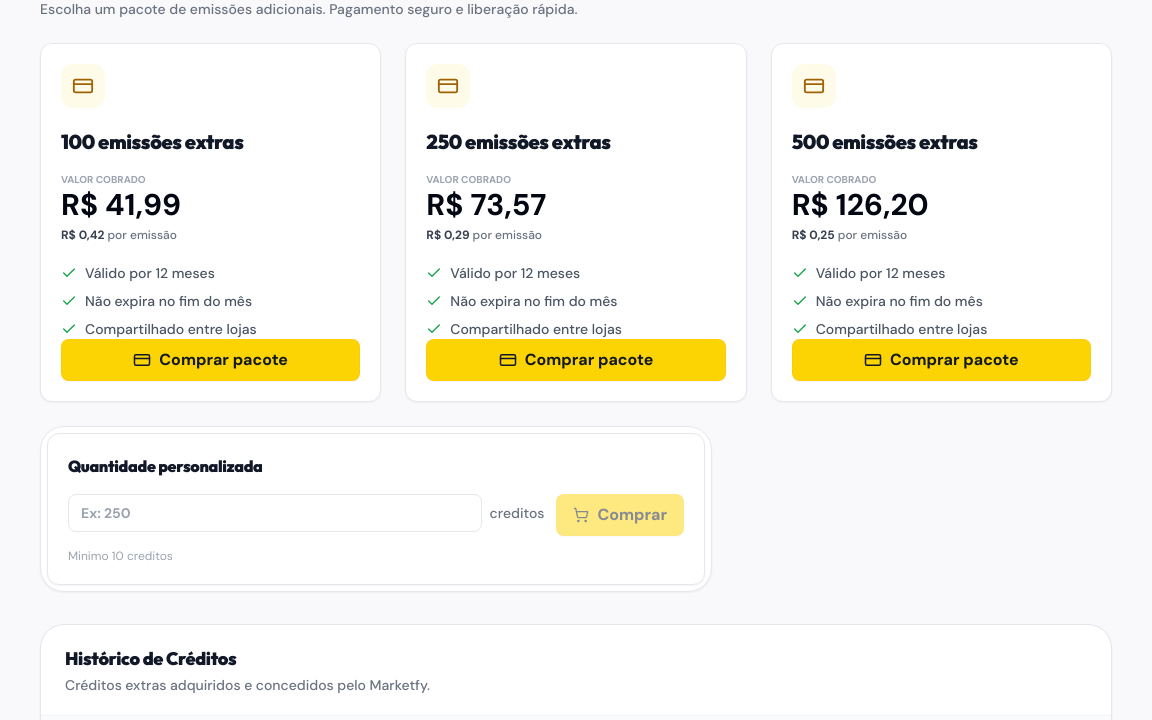
Test: FiscalCredits › shows inline error inside confirm modal when checkout job failed
(page scrolled)
Click the button "Comprar pacote" below "R$ 0,29": [576, 360] box x1=426 y1=339 x2=726 y2=381
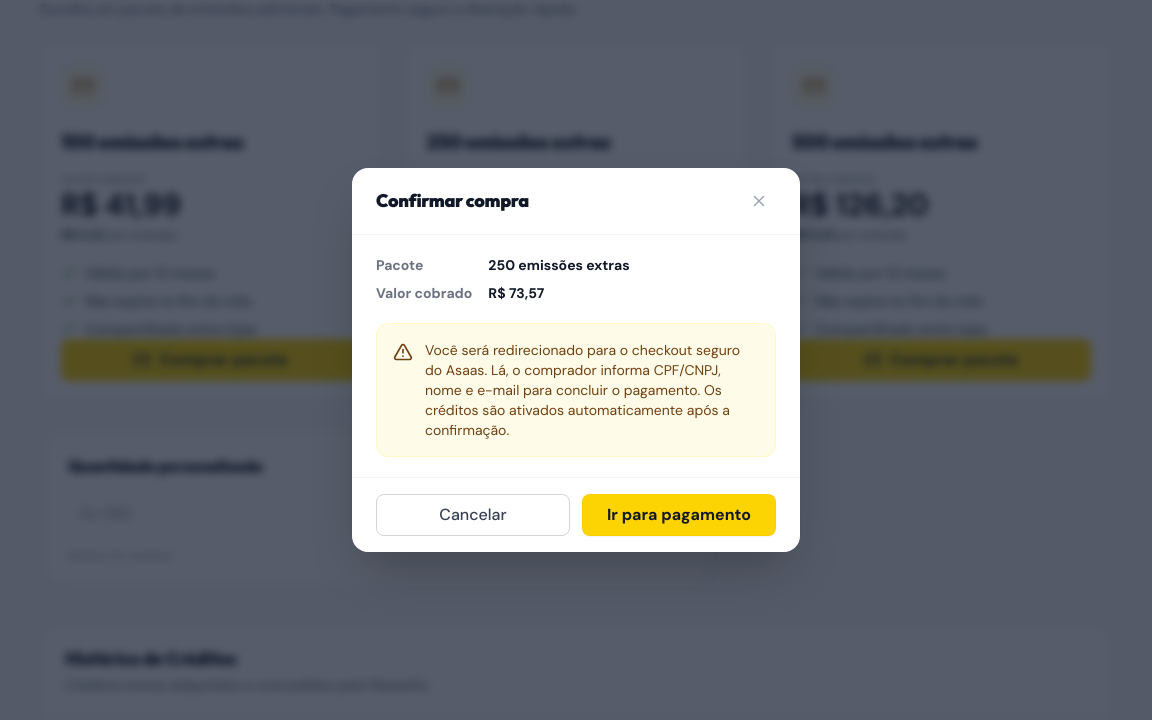
Click the button "Ir para pagamento": [679, 515] box x1=582 y1=494 x2=776 y2=536
(page scrolled)
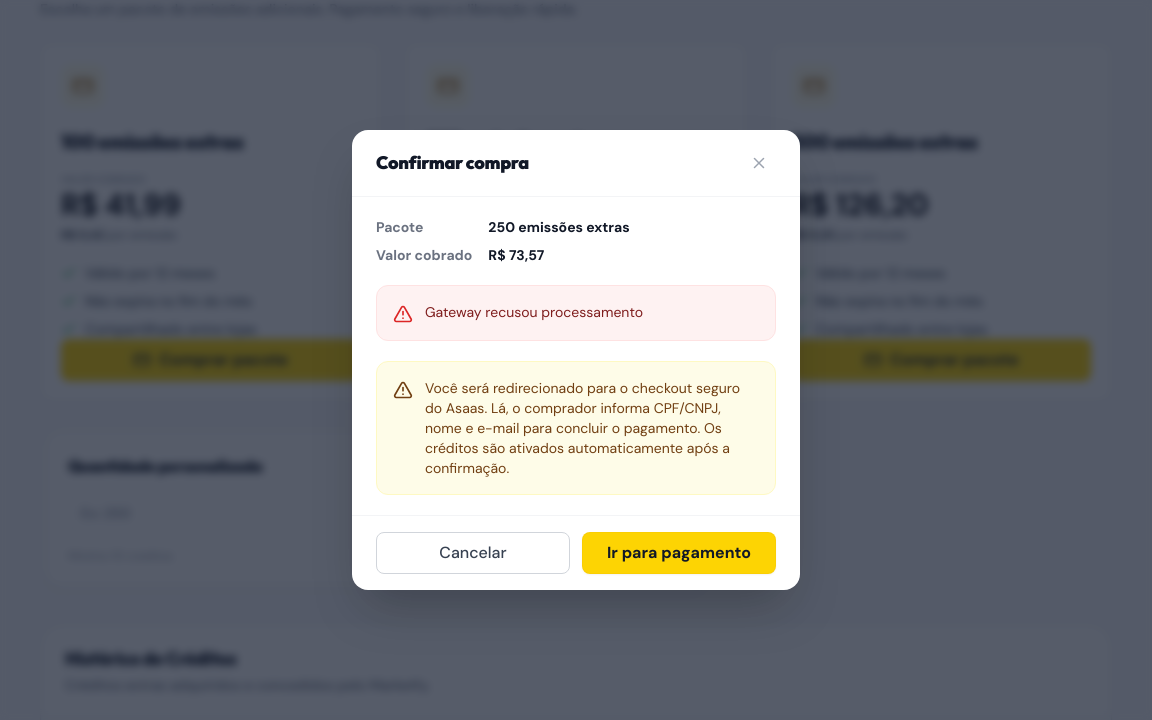
Expected: the dialog "Confirmar compra" is shown, x1=352 y1=130 x2=800 y2=590
Expected: the message "Gateway recusou processamento" is shown, x1=376 y1=285 x2=776 y2=341
Expected: the message reads "Gateway recusou processamento", x1=425 y1=303 x2=643 y2=321
